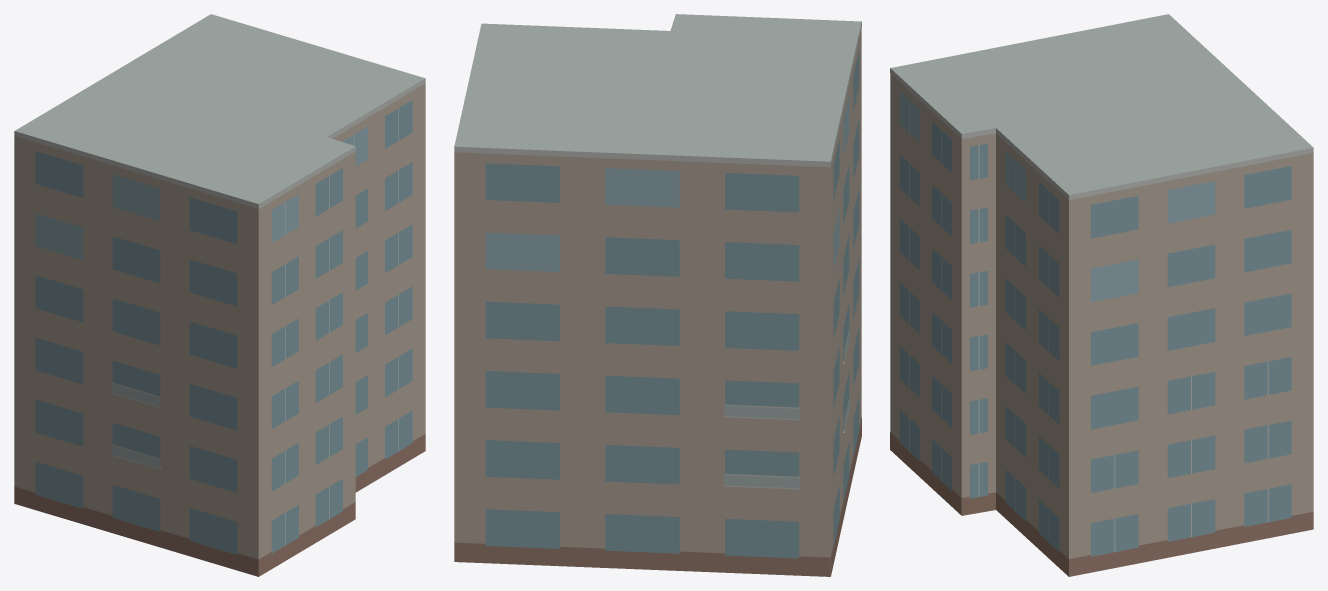
Rendered from survey-upis-33016532.glb.
The picture shows the model from 3 angles, left to right: view 1: azimuth 30°, elevation 25°; view 2: azimuth 150°, elevation 25°; view 3: azimuth 270°, elevation 25°; orthographic projection. The views are drawn at different scales.
Parts seen in each view (by area): view 1: survey-upis-33016532.tmp; view 2: survey-upis-33016532.tmp; view 3: survey-upis-33016532.tmp.
Boxes of the visible parts, x1=… form: survey-upis-33016532.tmp: x1=14, y1=14, x2=425, y2=576; survey-upis-33016532.tmp: x1=454, y1=14, x2=861, y2=576; survey-upis-33016532.tmp: x1=890, y1=14, x2=1313, y2=576.
Size of the model in its own units: 18.42 by 18.1 by 18.2.
